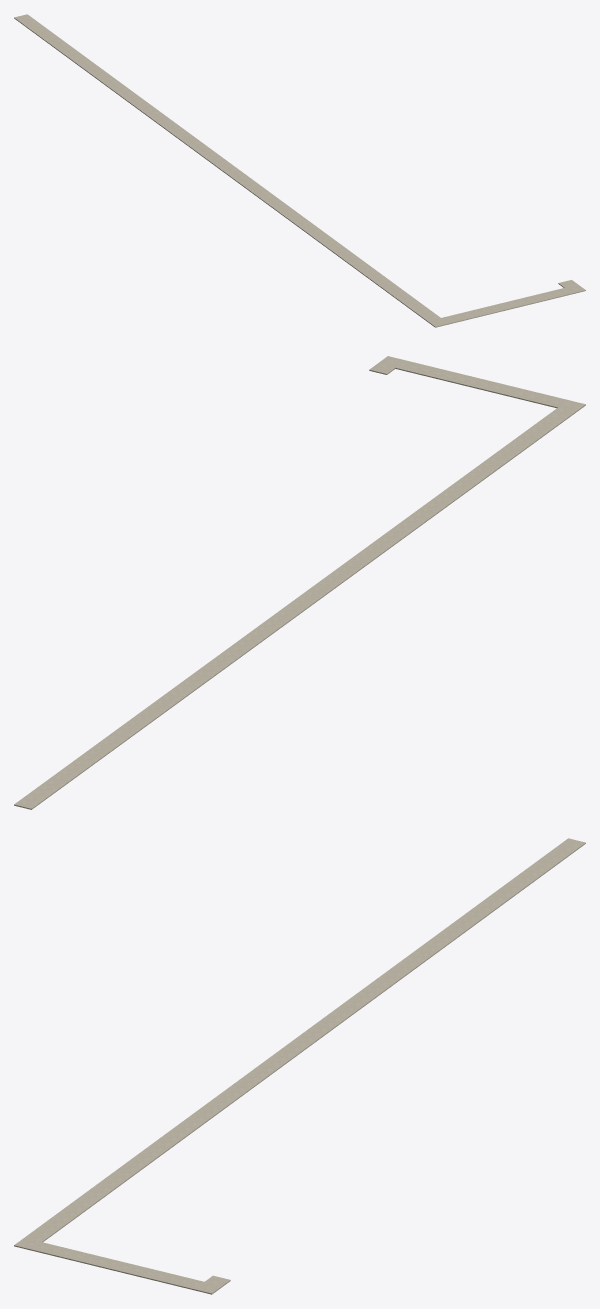
The model's file is northeast_C_access.glb.
The picture shows the model from 3 angles, top to bottom: view 1: azimuth 30°, elevation 25°; view 2: azimuth 150°, elevation 25°; view 3: azimuth 330°, elevation 25°; orthographic projection. The views are drawn at different scales.
Parts seen in each view (by area): view 1: C_NE_APPROACH_LOCAL; view 2: C_NE_APPROACH_LOCAL; view 3: C_NE_APPROACH_LOCAL.
Part boxes in pixels (bbox=[...]): C_NE_APPROACH_LOCAL: bbox=[14, 14, 585, 327]; C_NE_APPROACH_LOCAL: bbox=[14, 356, 585, 809]; C_NE_APPROACH_LOCAL: bbox=[14, 838, 585, 1294].
Size of the model in its own units: 33.61 by 0.38 by 163.
Materials: 1 (1 with a texture image).
